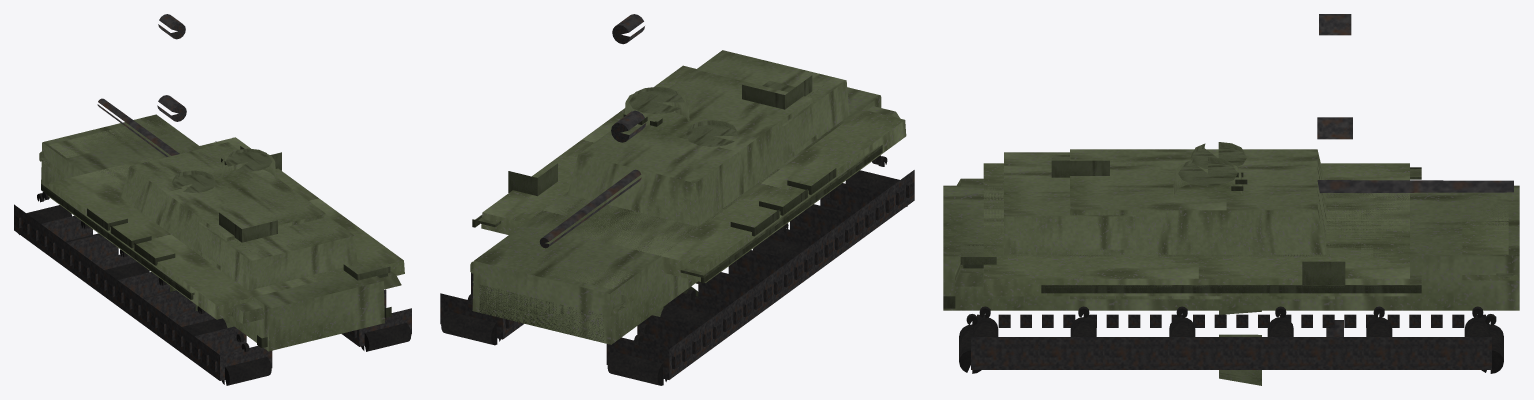
The model's file is ct-medium.glb.
The picture shows the model from 3 angles, left to right: view 1: azimuth 30°, elevation 25°; view 2: azimuth 150°, elevation 25°; view 3: azimuth 270°, elevation 25°; orthographic projection. The views are drawn at different scales.
Visible parts, largest first — view 1: Hull, Turret, Gun, TrackR1, TrackR6, TrackR3, TrackR4, TrackR7, TrackR0, TrackR2, TrackR5, IdlerR (+5 smaller); view 2: Hull, Turret, Gun, TrackR4, TrackR6, TrackR1, TrackR3, TrackR0, TrackR7, TrackR5, TrackR2, SprocketR (+5 smaller); view 3: Hull, Turret, Gun, TrackL5, TrackL2, TrackL0, TrackL6, TrackL4, TrackL3, TrackL1, TrackL7, SprocketL (+7 smaller).
Part boxes in pixels (x1,y1,x2,y2): Hull: (39, 114, 404, 351); Turret: (121, 142, 357, 328); Gun: (97, 14, 186, 156); TrackR1: (167, 318, 246, 361); TrackR6: (39, 223, 118, 267); TrackR3: (116, 280, 195, 324); TrackR4: (91, 261, 169, 305); TrackR7: (14, 204, 92, 248); TrackR0: (193, 336, 272, 380); TrackR2: (142, 299, 214, 342); TrackR5: (65, 242, 137, 286); IdlerR: (222, 343, 271, 385); Hull: (470, 65, 906, 344); Turret: (567, 50, 849, 316); Gun: (539, 14, 645, 248); TrackR4: (698, 259, 792, 312); TrackR6: (637, 305, 731, 356); TrackR1: (790, 193, 883, 245); TrackR3: (728, 237, 822, 289); TrackR0: (820, 170, 914, 223); TrackR7: (606, 326, 700, 379); TrackR5: (667, 282, 761, 334); TrackR2: (768, 215, 853, 267); SprocketR: (607, 335, 666, 385); Hull: (943, 163, 1519, 310); Turret: (1004, 142, 1335, 385); Gun: (1317, 14, 1513, 336); TrackL5: (1295, 314, 1362, 369); TrackL2: (1100, 314, 1167, 369); TrackL0: (971, 314, 1038, 369); TrackL6: (1360, 314, 1427, 369); TrackL4: (1230, 314, 1297, 369); TrackL3: (1165, 314, 1232, 369); TrackL1: (1035, 314, 1102, 369); TrackL7: (1424, 314, 1491, 369); SprocketL: (1481, 314, 1503, 373).
Bounding box in the file's own units: 3.32 × 4.7 × 6.7.
Materials: 3 (3 with a texture image).
